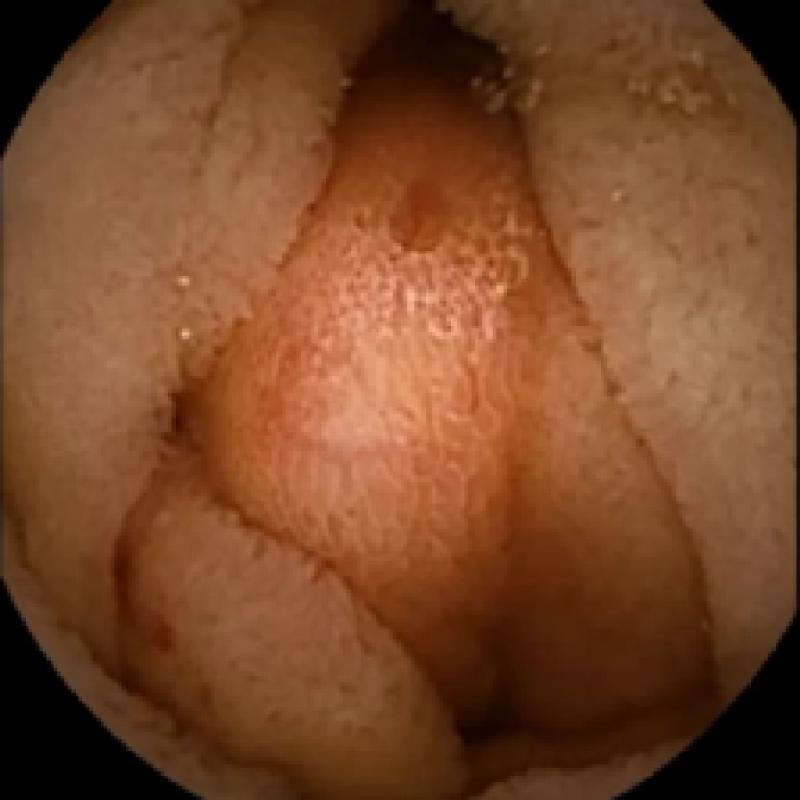bleeding: (332, 0, 514, 271), (447, 665, 724, 748)
